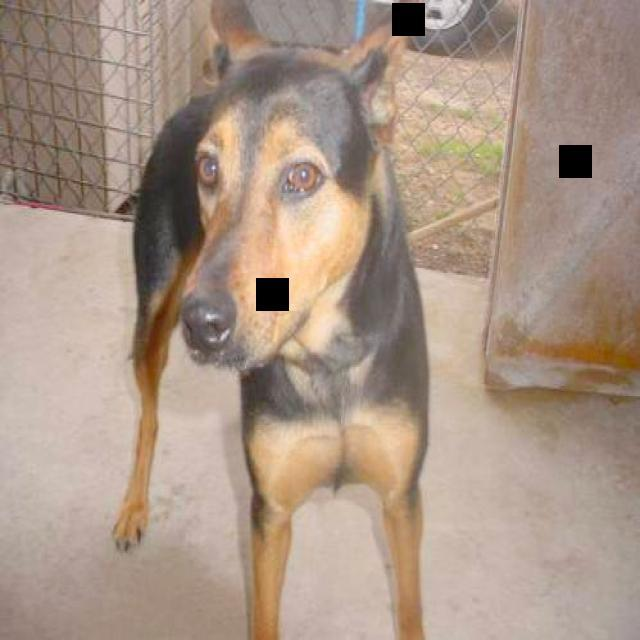adult_dog: (112, 1, 432, 640)
